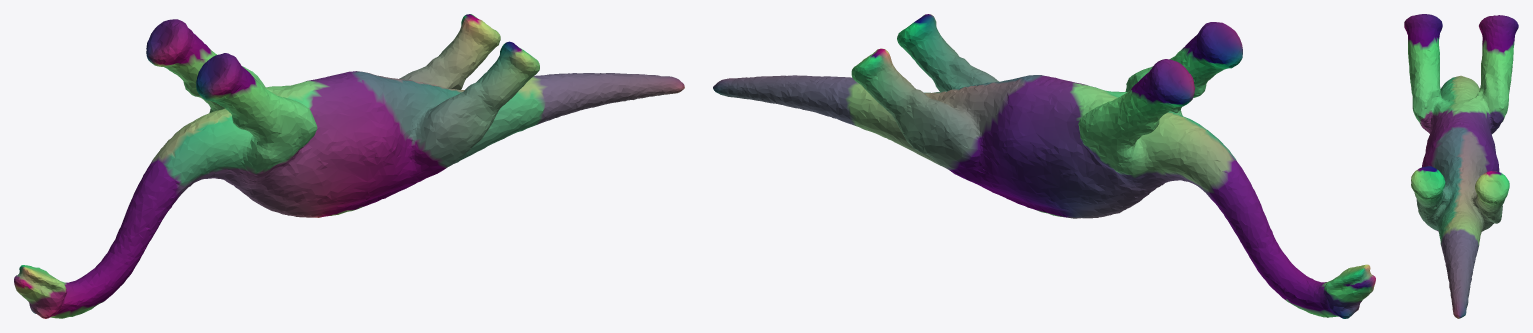
Rendered from dinosaur-16.off.obj.
3 renders of one model, left to right at view 1: azimuth 30°, elevation 25°; view 2: azimuth 150°, elevation 25°; view 3: azimuth 270°, elevation 25°, orthographic. The views are drawn at different scales.
Size of the model in its own units: 1.67 by 0.5854 by 0.3256.
